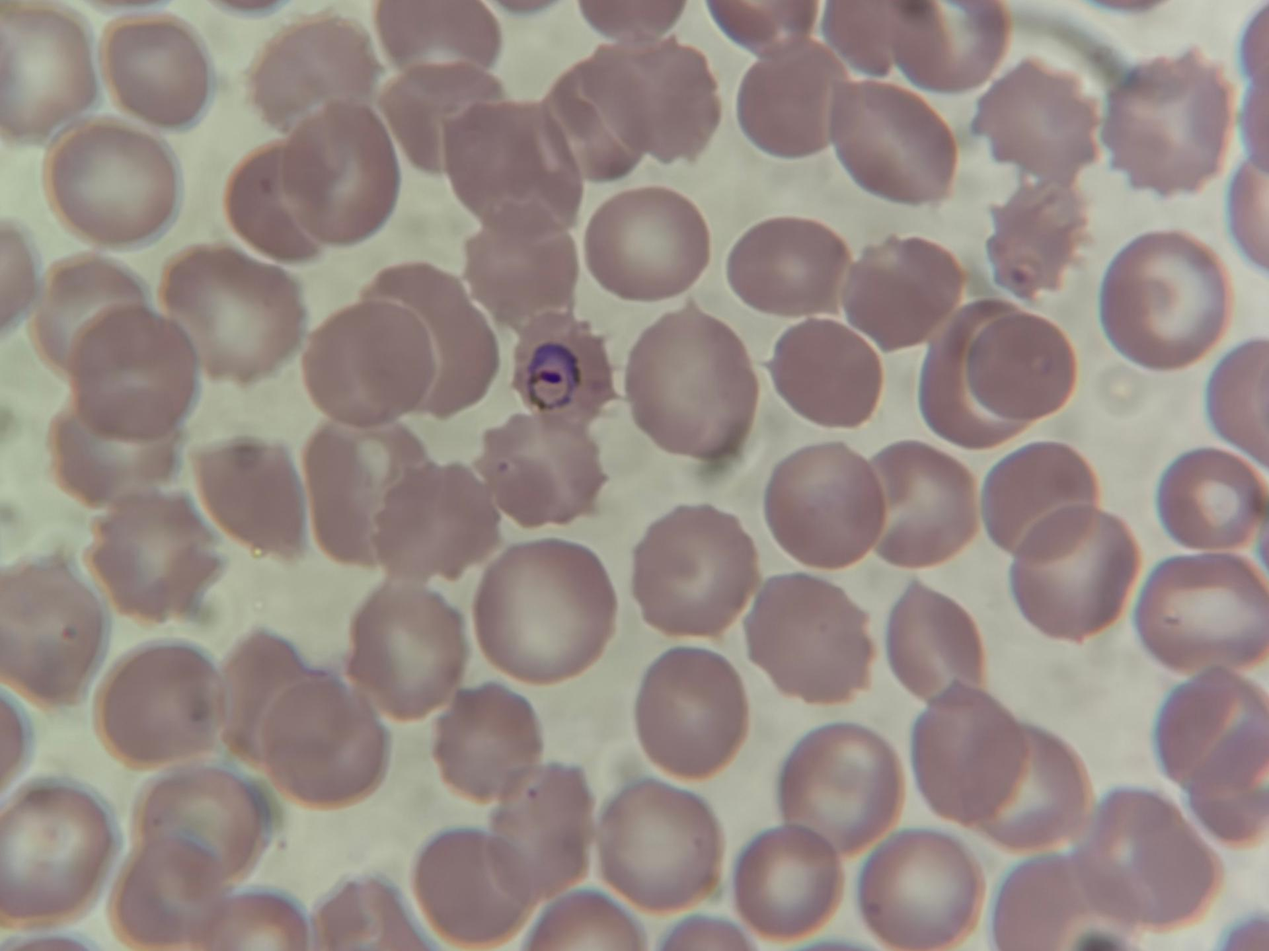Infected: (509, 309, 620, 436)
Uninfected: (165, 243, 316, 387), (1073, 785, 1216, 932), (366, 256, 495, 415), (630, 305, 759, 456), (1097, 230, 1228, 377), (308, 410, 429, 568), (480, 543, 610, 687), (132, 763, 269, 897), (0, 778, 116, 935), (284, 93, 398, 252), (302, 300, 436, 433), (48, 115, 178, 252), (350, 580, 470, 727), (70, 309, 211, 434), (1110, 54, 1234, 196), (1137, 549, 1269, 680), (260, 679, 389, 813), (181, 428, 308, 564), (824, 78, 956, 208), (88, 496, 225, 621), (29, 250, 157, 383), (1013, 505, 1135, 644), (630, 496, 752, 634), (965, 721, 1085, 858), (0, 549, 100, 712), (978, 51, 1102, 182), (749, 571, 869, 706), (443, 100, 579, 218), (912, 679, 1024, 822), (919, 296, 1024, 448), (599, 785, 724, 912), (90, 646, 228, 761), (784, 719, 896, 858), (588, 181, 712, 305), (1152, 666, 1263, 803), (463, 197, 586, 320), (414, 822, 536, 946), (48, 399, 179, 514), (769, 444, 886, 572), (482, 415, 610, 531), (251, 21, 382, 133), (214, 631, 338, 749), (637, 646, 751, 774), (861, 441, 974, 570), (112, 838, 238, 951), (489, 761, 589, 902), (586, 49, 712, 158), (379, 455, 489, 578), (736, 36, 847, 157), (989, 441, 1103, 558), (727, 212, 845, 324), (762, 314, 875, 430), (848, 239, 959, 356), (388, 51, 491, 176), (868, 833, 975, 951), (1154, 450, 1269, 558), (434, 679, 536, 799), (965, 311, 1072, 421), (104, 16, 204, 133), (890, 578, 977, 712), (546, 67, 654, 171), (736, 820, 834, 932), (231, 148, 320, 256)
